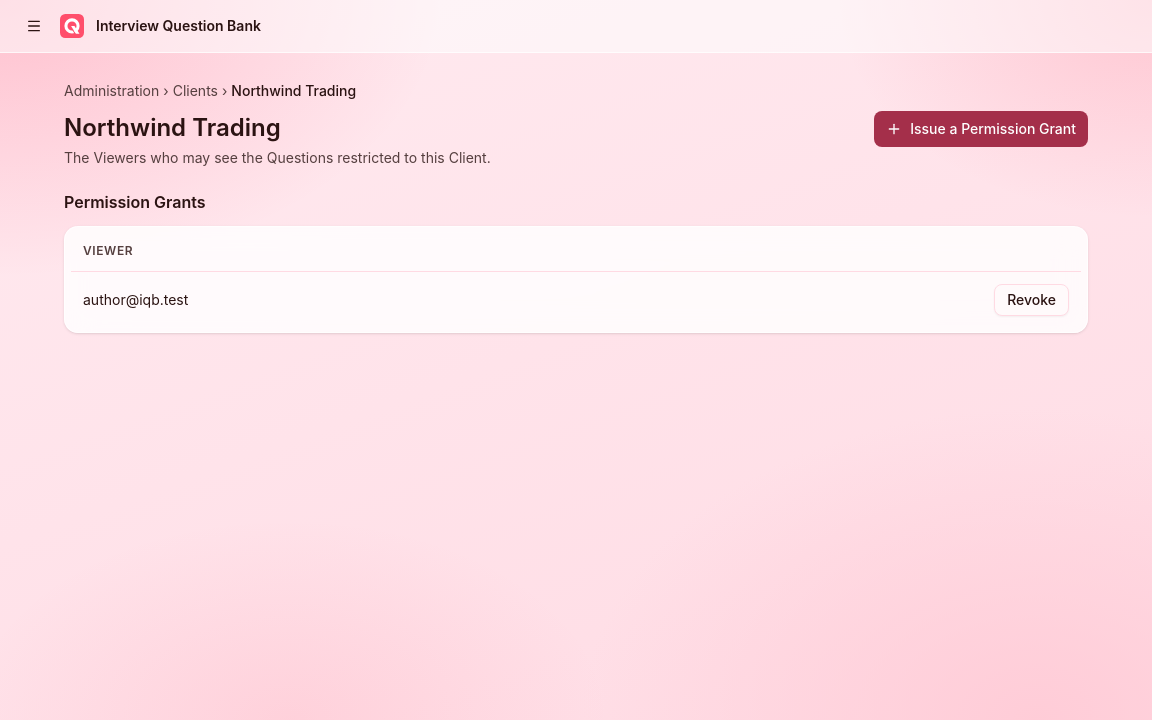
Test: issuing a Permission Grant from the administration console › sends nothing until a Viewer is picked, and nothing on Cancel
The image size is (1152, 720).
Click the button "Issue a Permission Grant". click: (981, 129)
box: 874,111 -> 1088,147
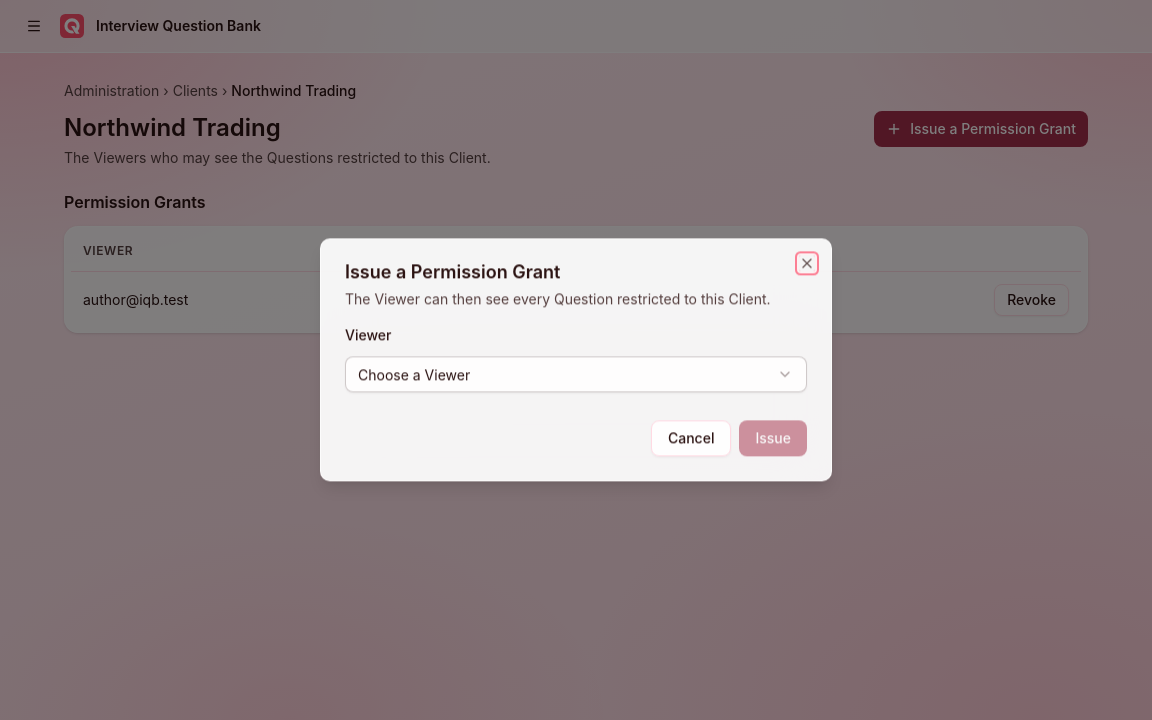
Expected: the dropdown labelled "Viewer" is shown, 345,357 -> 807,393
Expected: the button "Issue" is disabled, 740,421 -> 807,457
Click the button "Cancel". click: (691, 439)
box: 651,421 -> 732,457
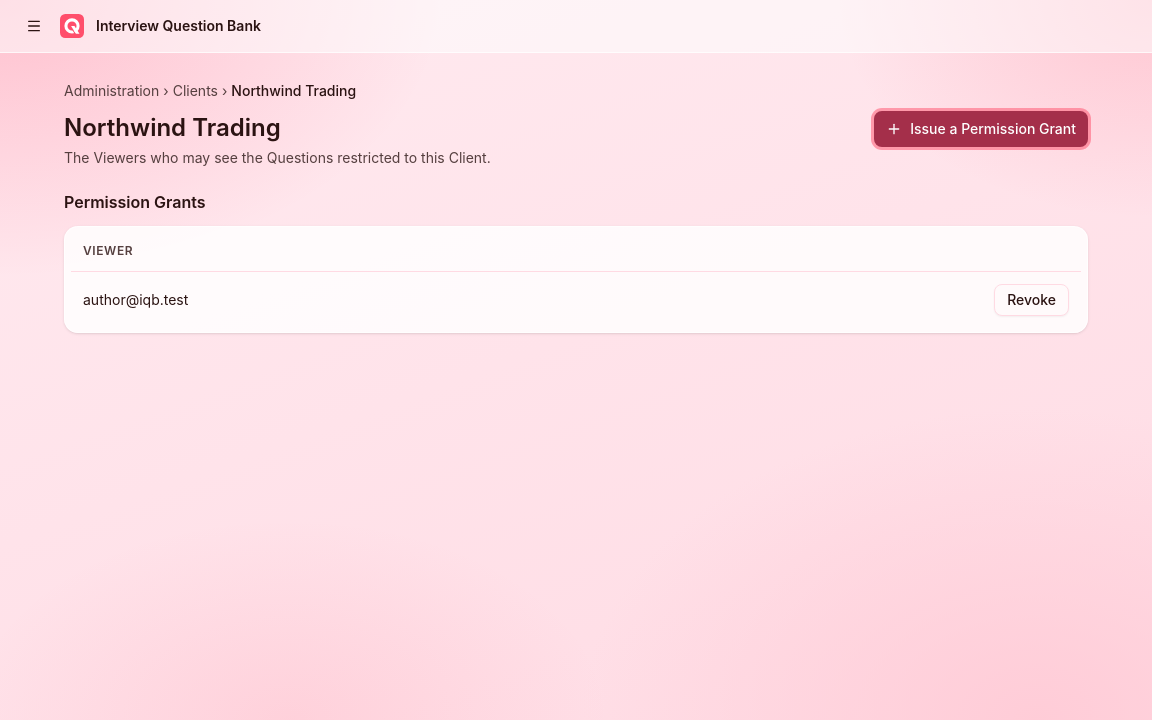
Expected: the dialog is gone
